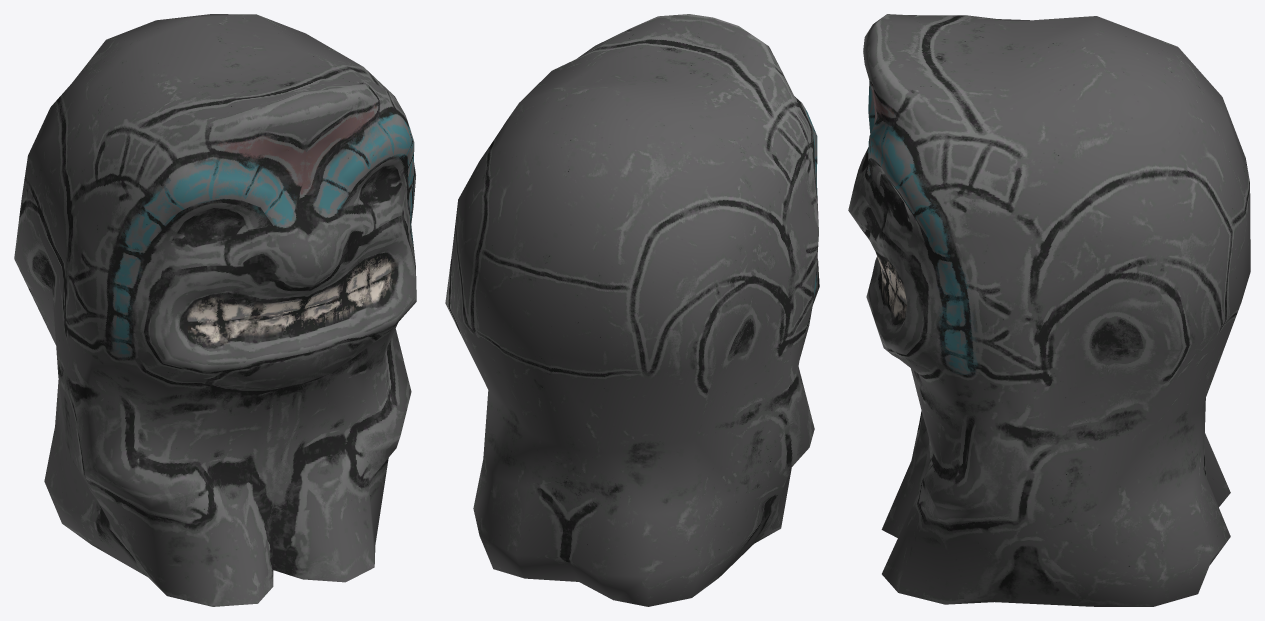
The model's file is movableObject.fbx.
3 renders of one model, left to right at view 1: azimuth 30°, elevation 25°; view 2: azimuth 150°, elevation 25°; view 3: azimuth 270°, elevation 25°, orthographic. The views are drawn at different scales.
Parts seen in each view (by area): view 1: movableObject; view 2: movableObject; view 3: movableObject.
Part boxes in pixels (bbox=[...]): movableObject: bbox=[14, 14, 416, 606]; movableObject: bbox=[445, 14, 819, 606]; movableObject: bbox=[848, 14, 1250, 606].
Size of the model in its own units: 6.38 by 9.32 by 6.54.
1 material, 1 textured.
